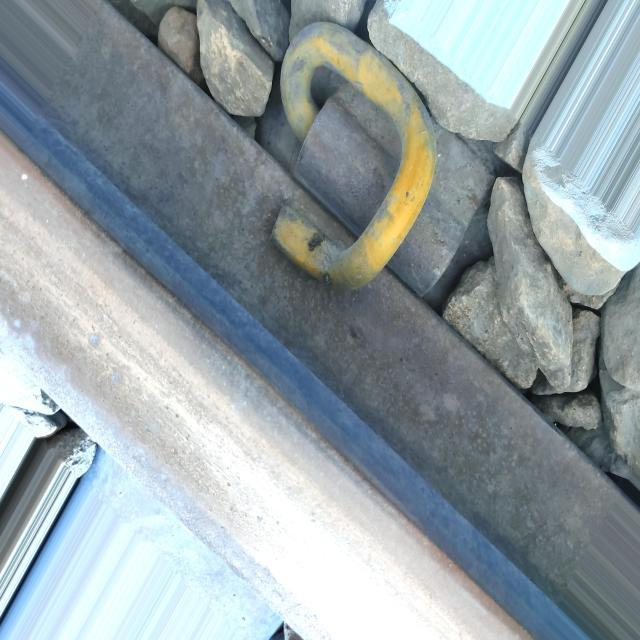Good Fasteners: (278, 22, 494, 303)
